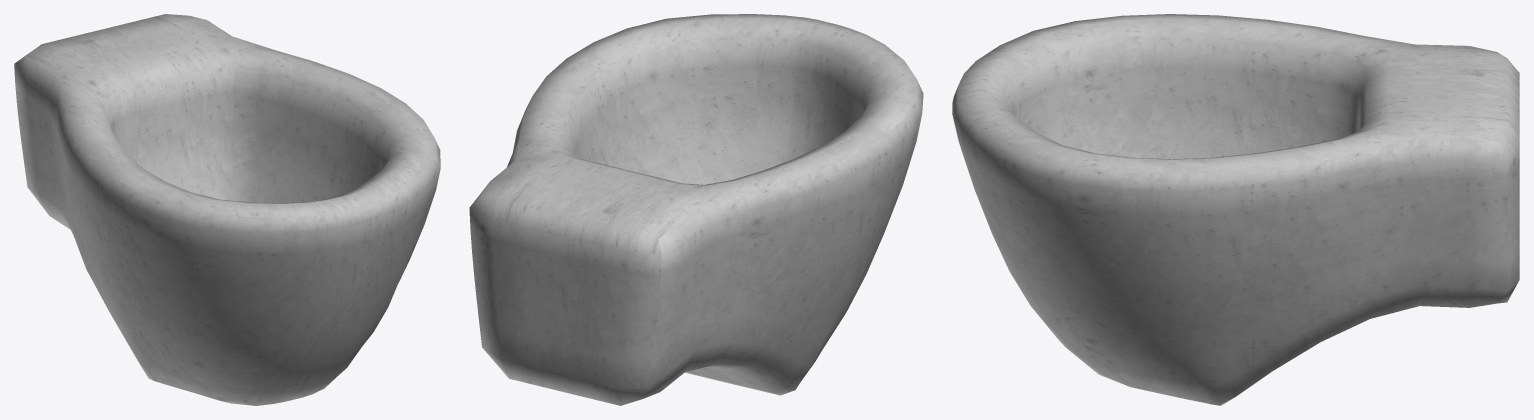
File: Toilet.FBX
3 renders of one model, left to right at view 1: azimuth 30°, elevation 25°; view 2: azimuth 150°, elevation 25°; view 3: azimuth 270°, elevation 25°, orthographic. The views are drawn at different scales.
Visible parts, largest first — view 1: toilet; view 2: toilet; view 3: toilet.
Boxes of the visible parts, x1,y1,x2,y2 form: toilet: (14,14,440,405); toilet: (469,14,923,405); toilet: (952,14,1519,405).
Size of the model in its own units: 48.16 by 37.09 by 69.44.
Materials: 2 (2 with a texture image).
